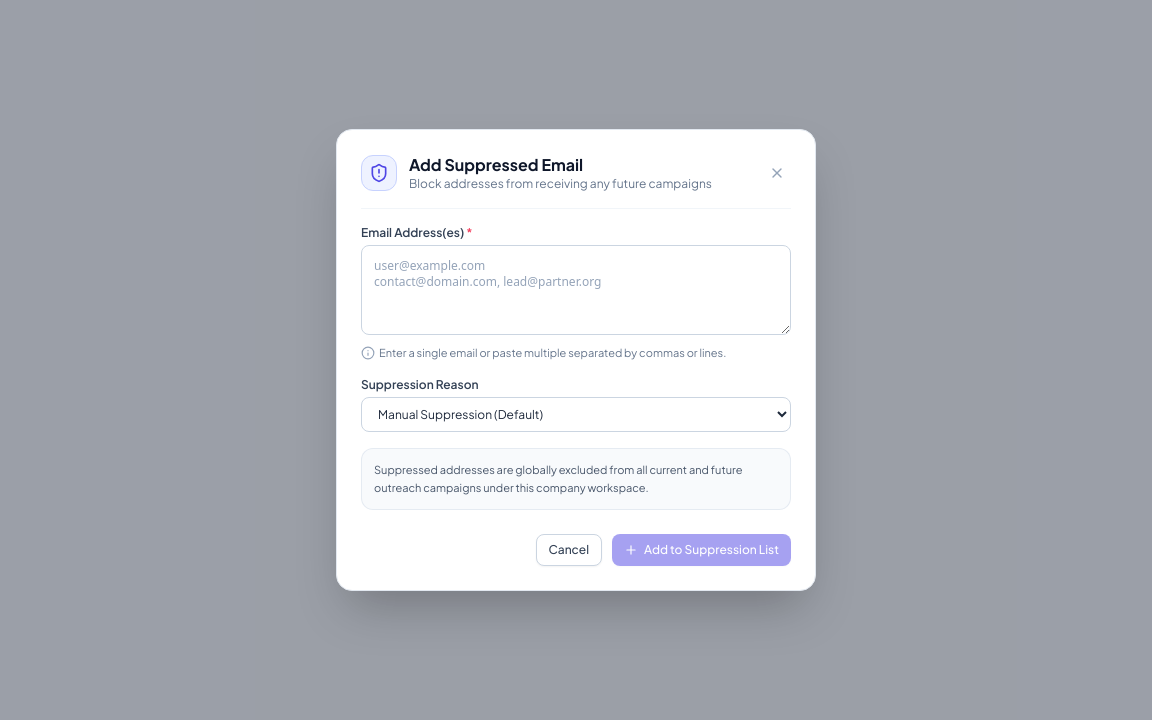
AddSuppressionModal Component › handles 409 conflict when email is already suppressed
This screenshot has width=1152, height=720.
Type "already@exists.com" into the text box labelled "Email Address(es) *". click: coordinates (576, 290)
box: x1=361 y1=245 x2=791 y2=335
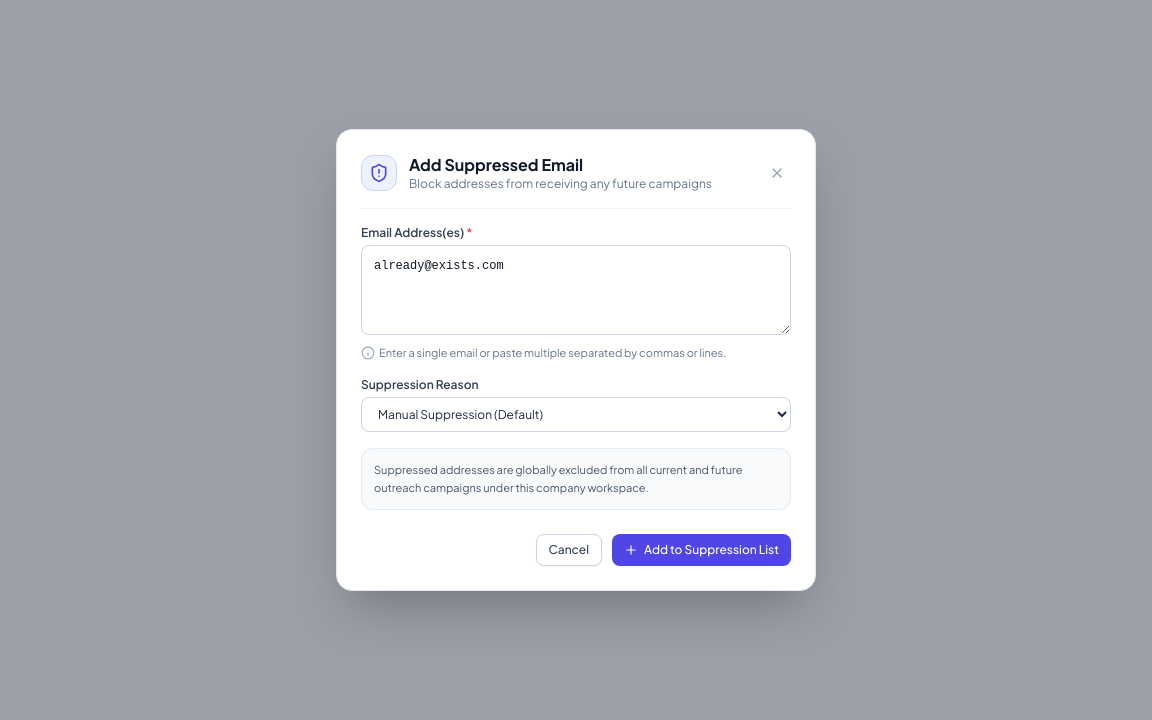
Click the button "Add to Suppression List". click: coordinates (702, 550)
box: x1=612 y1=534 x2=791 y2=566
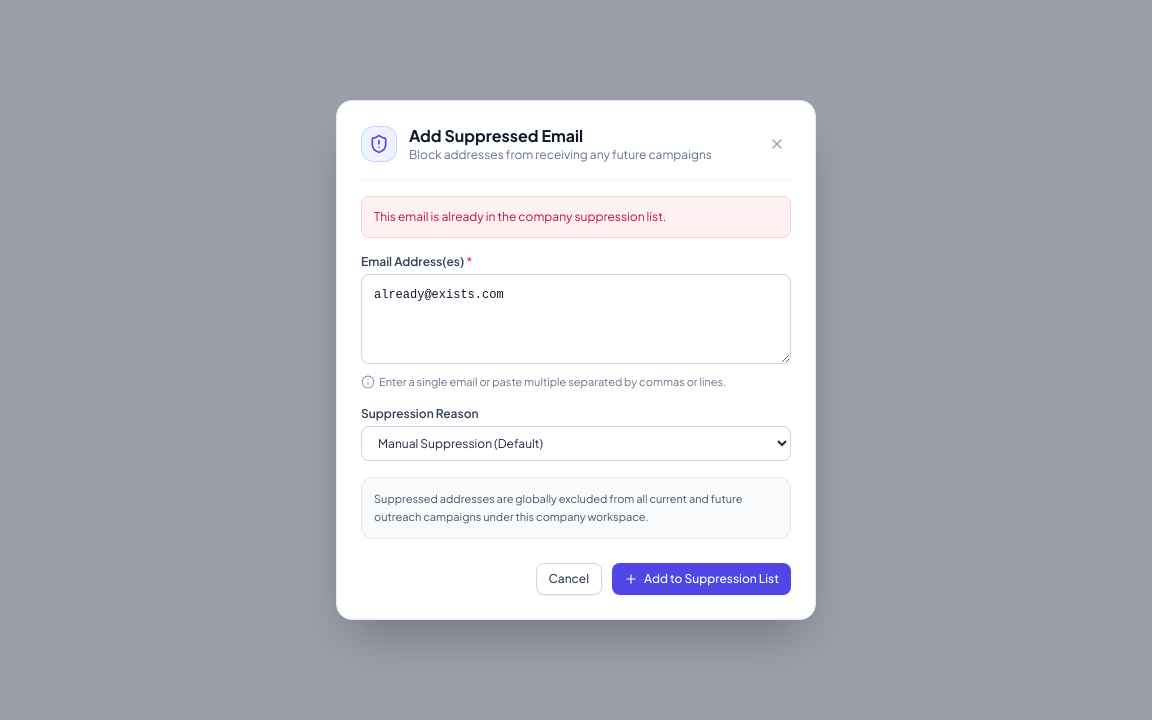
expect the text "This email is already in the company suppression list." is shown: met, box x1=361 y1=196 x2=791 y2=238
